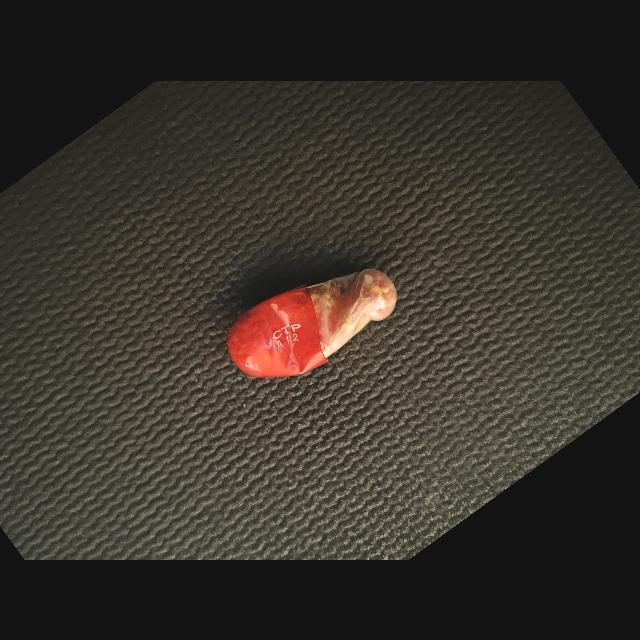Defective Capsule: (227, 268, 397, 377)
